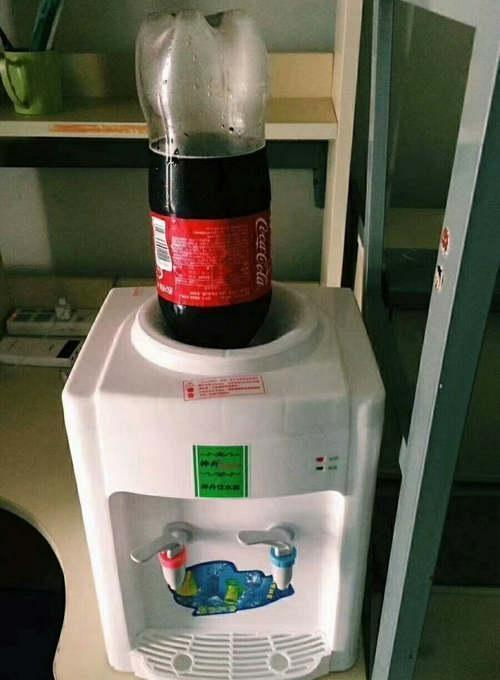Dispenser: (58, 282, 385, 679)
